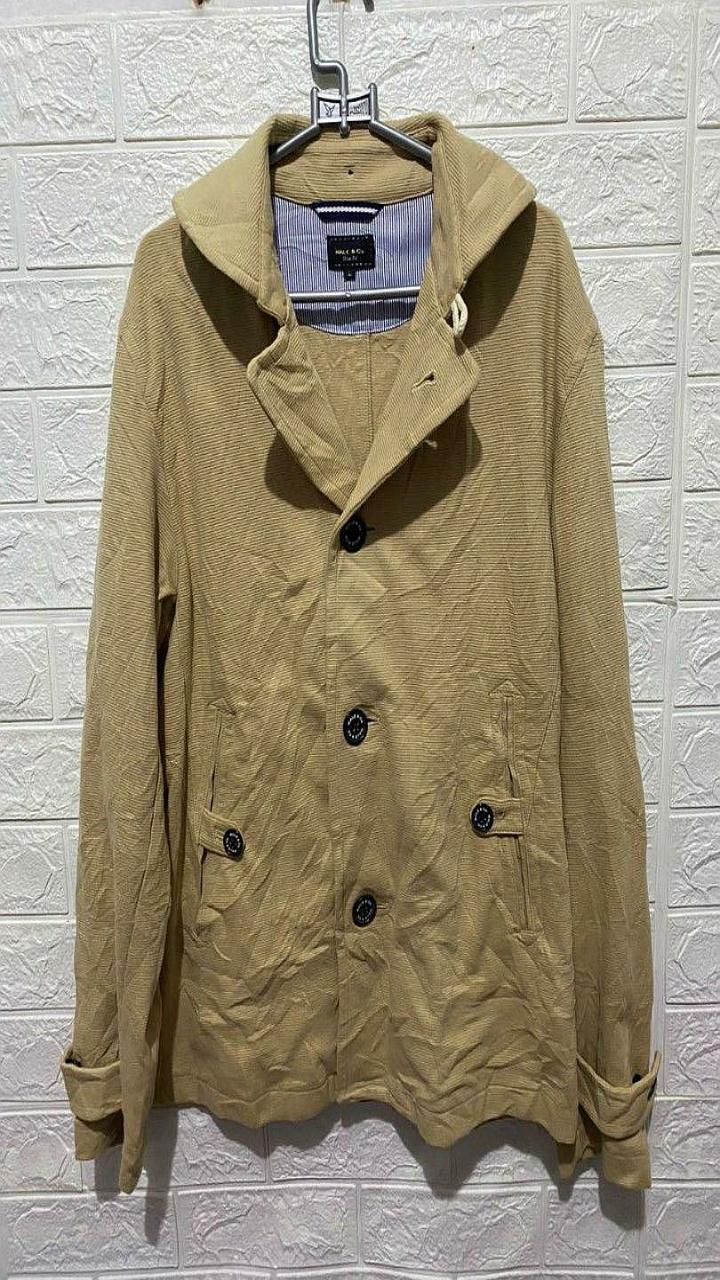Coat: (61, 111, 659, 1191)
